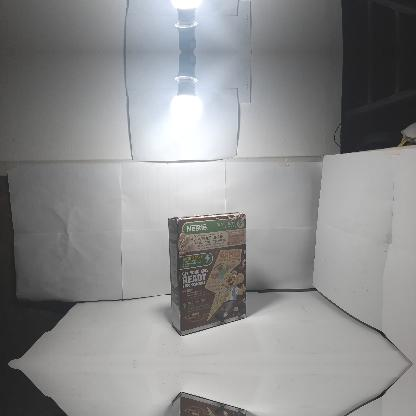Koko-Krunch: (168, 210, 246, 336)
